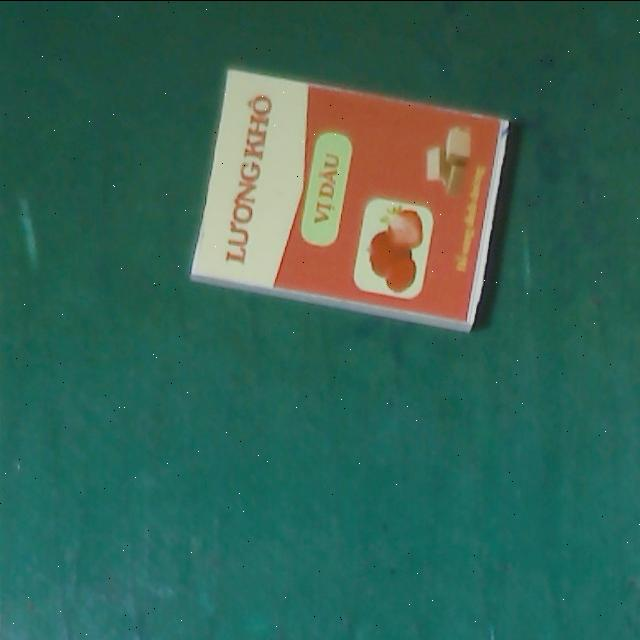dau: (191, 67, 512, 333)
